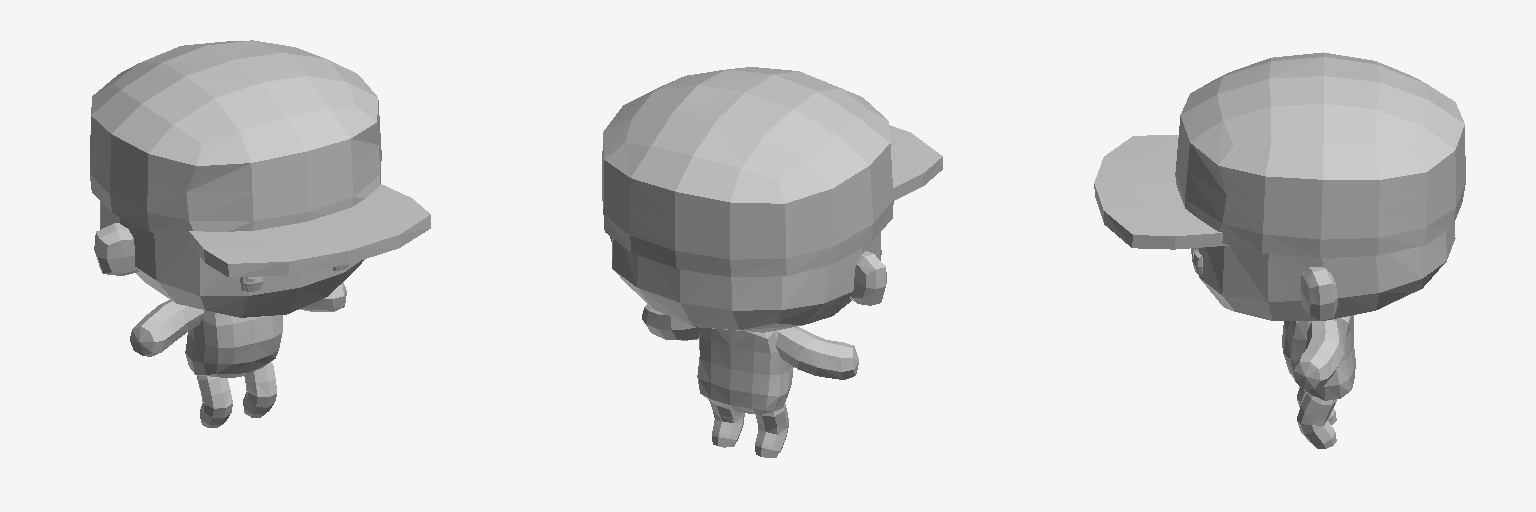
File: jump_0021.obj
The picture shows the model from 3 angles: view 1: azimuth 30°, elevation 25°; view 2: azimuth 150°, elevation 25°; view 3: azimuth 270°, elevation 25°; orthographic projection.
Parts seen in each view (by area): view 1: Object_41, Object_42, Object_44, Object_36; view 2: Object_41, Object_36, Object_44, Object_42; view 3: Object_41, Object_36, Object_42, Object_44.
Boxes of the visible parts, x1=… form: Object_41: x1=90, y1=40, x2=381, y2=240; Object_42: x1=186, y1=123, x2=430, y2=277; Object_44: x1=130, y1=283, x2=346, y2=427; Object_36: x1=94, y1=201, x2=364, y2=317; Object_41: x1=602, y1=67, x2=893, y2=276; Object_36: x1=610, y1=232, x2=886, y2=332; Object_44: x1=642, y1=304, x2=858, y2=457; Object_42: x1=889, y1=125, x2=942, y2=200; Object_41: x1=1181, y1=52, x2=1465, y2=257; Object_36: x1=1191, y1=223, x2=1455, y2=320; Object_42: x1=1094, y1=115, x2=1229, y2=249; Object_44: x1=1282, y1=315, x2=1355, y2=448.
Size of the model in its own units: 0.9691 by 1.21 by 1.13.